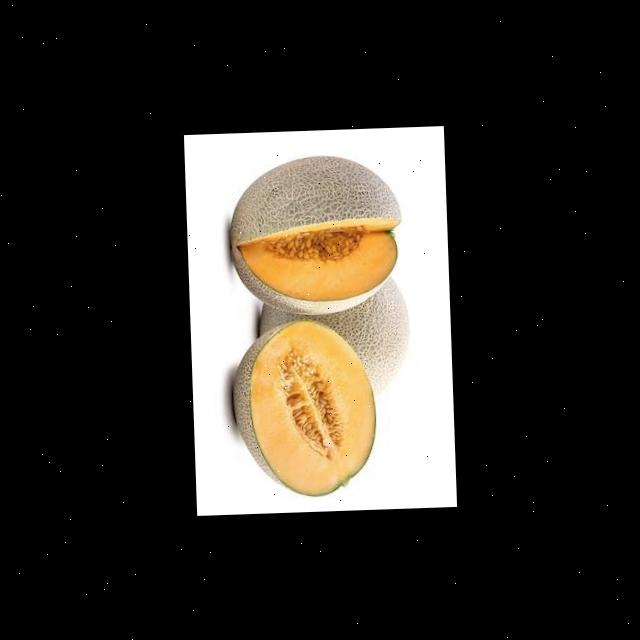Hami Melon: (227, 152, 406, 316), (230, 318, 378, 499)
